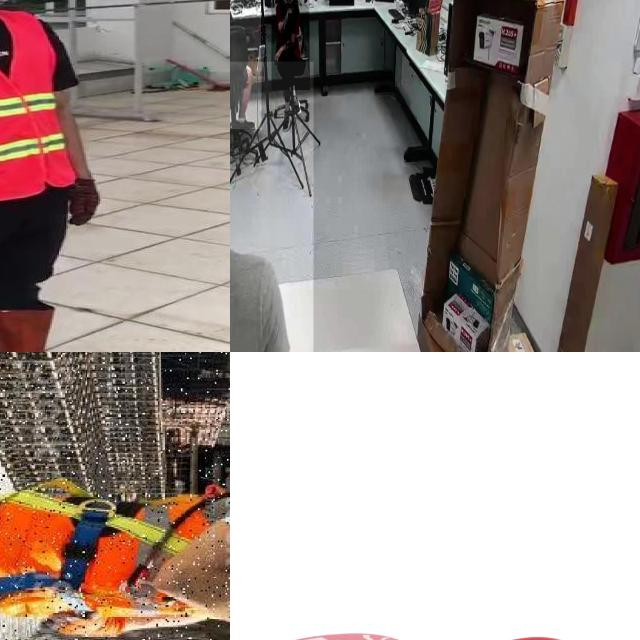Harness: (0, 479, 230, 630)
boots: (0, 305, 103, 352)
hand_noglove: (272, 45, 282, 64)
person: (0, 0, 118, 352), (230, 61, 313, 352), (230, 0, 261, 129), (271, 0, 310, 90)
shoes: (280, 106, 298, 136), (288, 91, 302, 117)
vest: (0, 9, 73, 204)
